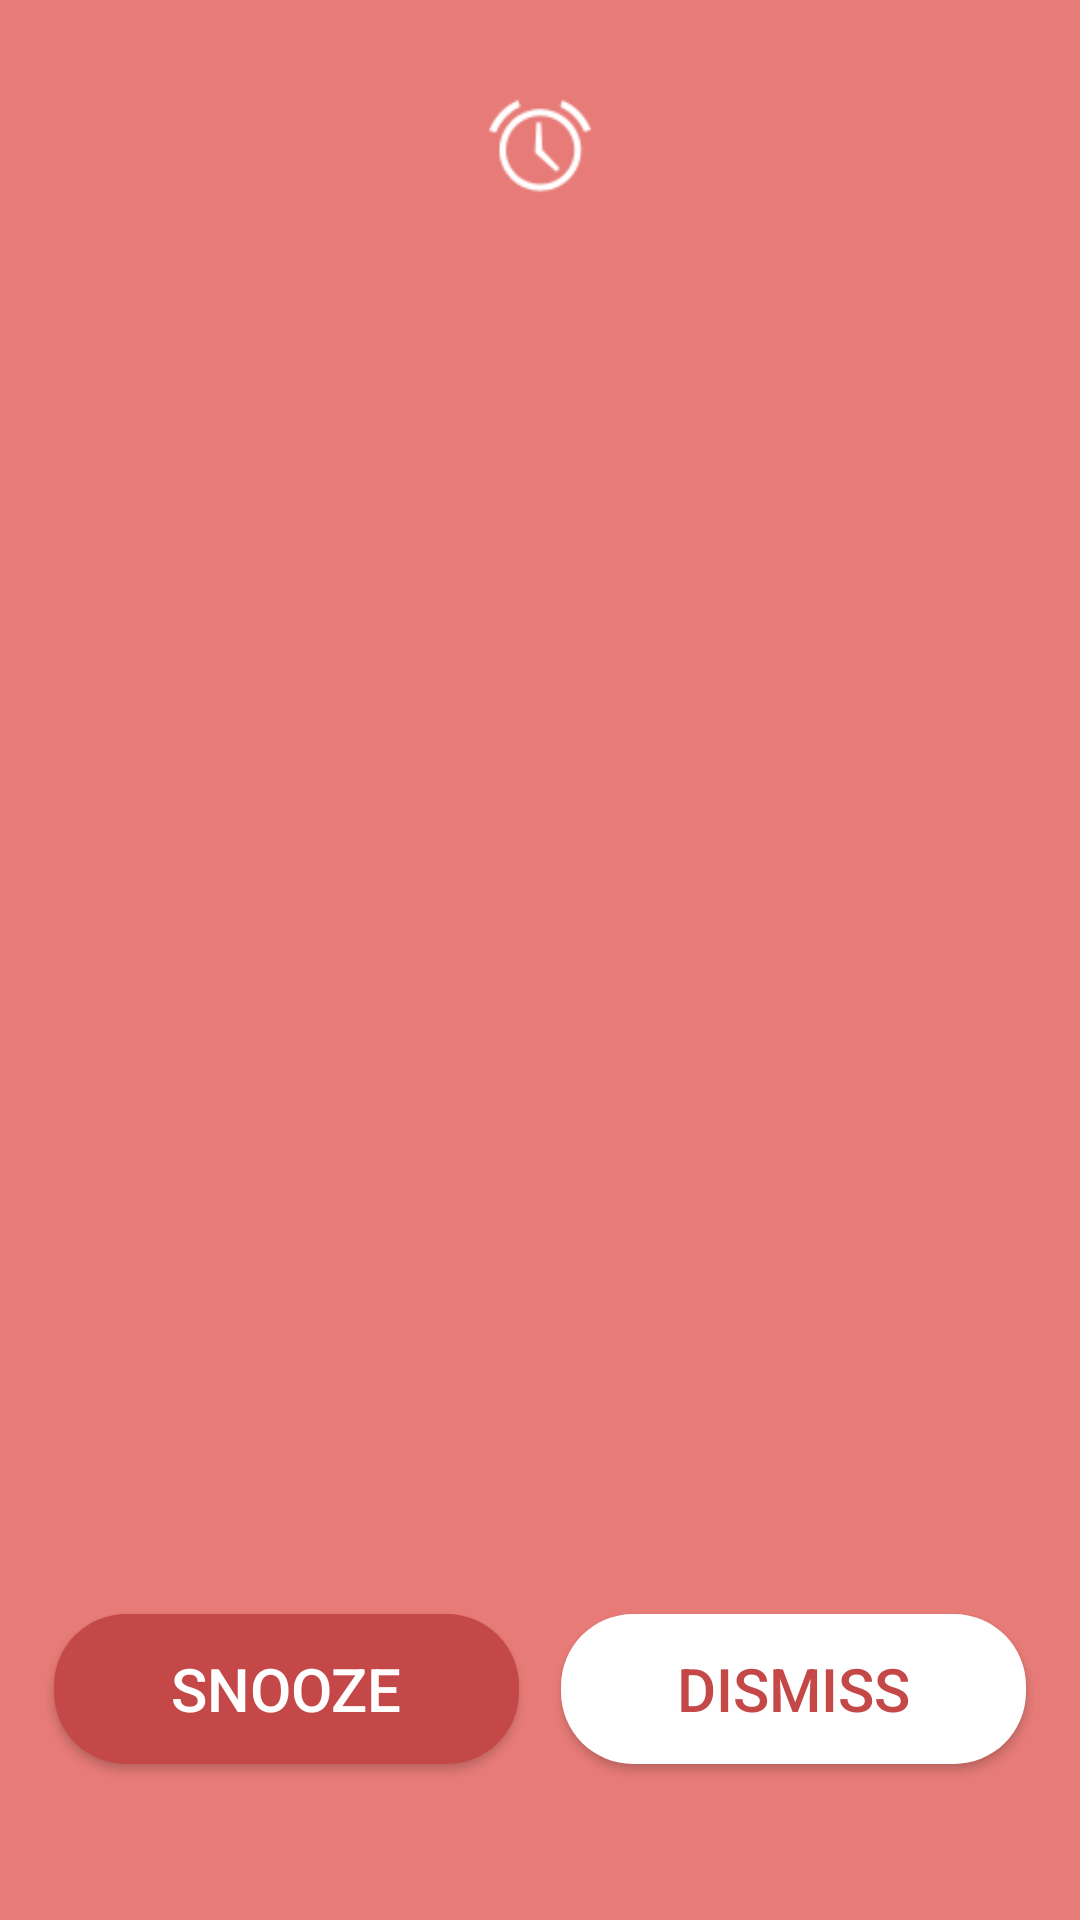

Named icons in this screenshot (1080×1920) and their centers, (x=x, y=y):
Alarm Clock: (x=540, y=146)
